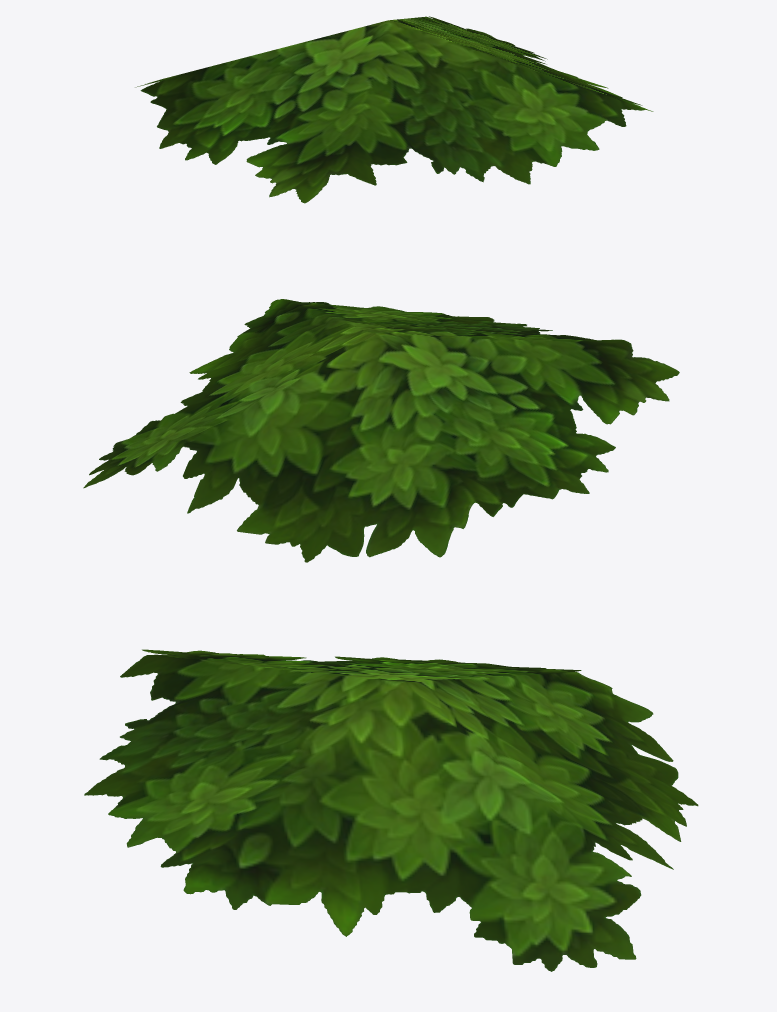
Rendered from sl_guanmu02.FBX.
3 renders of one model, top to bottom at view 1: azimuth 30°, elevation 25°; view 2: azimuth 150°, elevation 25°; view 3: azimuth 270°, elevation 25°, orthographic. The views are drawn at different scales.
Parts seen in each view (by area): view 1: sl_guanmu02; view 2: sl_guanmu02; view 3: sl_guanmu02.
Part boxes in pixels (box(x1,y1,x2,y2)): sl_guanmu02: box(135, 16, 653, 203); sl_guanmu02: box(83, 299, 679, 562); sl_guanmu02: box(84, 649, 698, 971).
Size of the model in its own units: 187 by 50.38 by 182.
